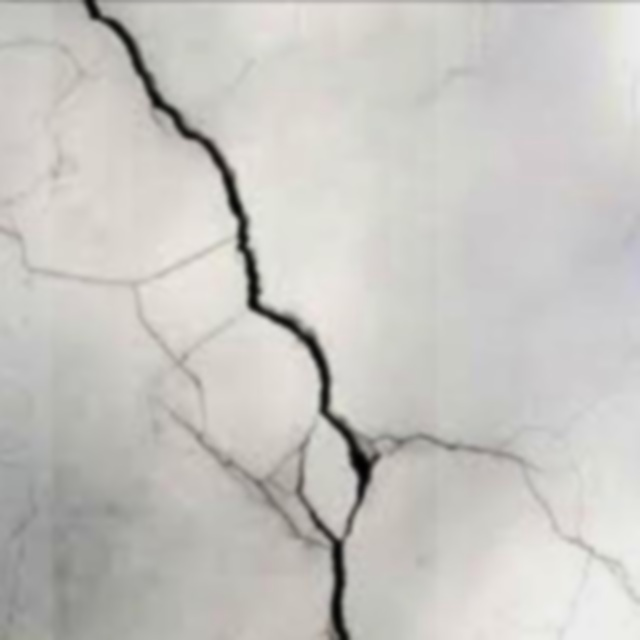SurfaceCrack: (50, 0, 436, 640)
